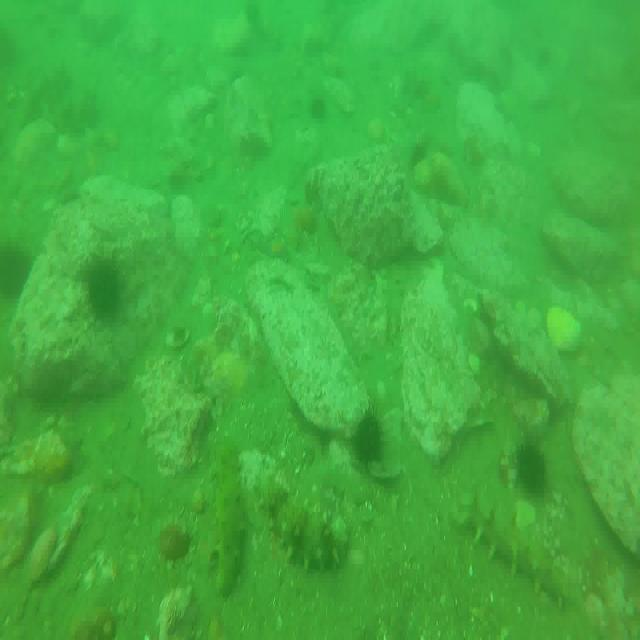echinus: (85, 259, 122, 318), (352, 402, 384, 470), (514, 438, 548, 502)
holothurian: (464, 490, 569, 604), (256, 474, 346, 570), (210, 438, 248, 592)
